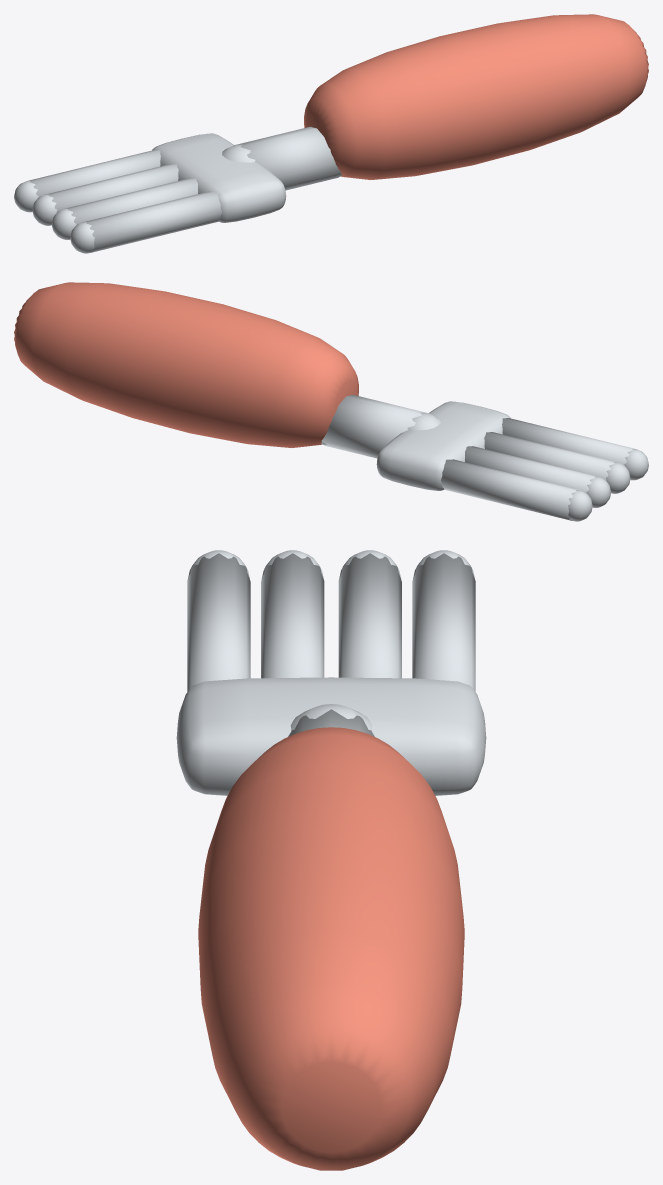
File: cutlery_b.glb
3 renders of one model, top to bottom at view 1: azimuth 30°, elevation 25°; view 2: azimuth 150°, elevation 25°; view 3: azimuth 270°, elevation 25°, orthographic. The views are drawn at different scales.
Visible parts, largest first — view 1: body; view 2: body; view 3: body.
Part boxes in pixels (left/top/right/bottom): body: left=14, top=14, right=648, bottom=253; body: left=14, top=282, right=648, bottom=521; body: left=176, top=550, right=486, bottom=1170.
Size of the model in its own units: 0.1945 by 0.0379 by 0.044.
